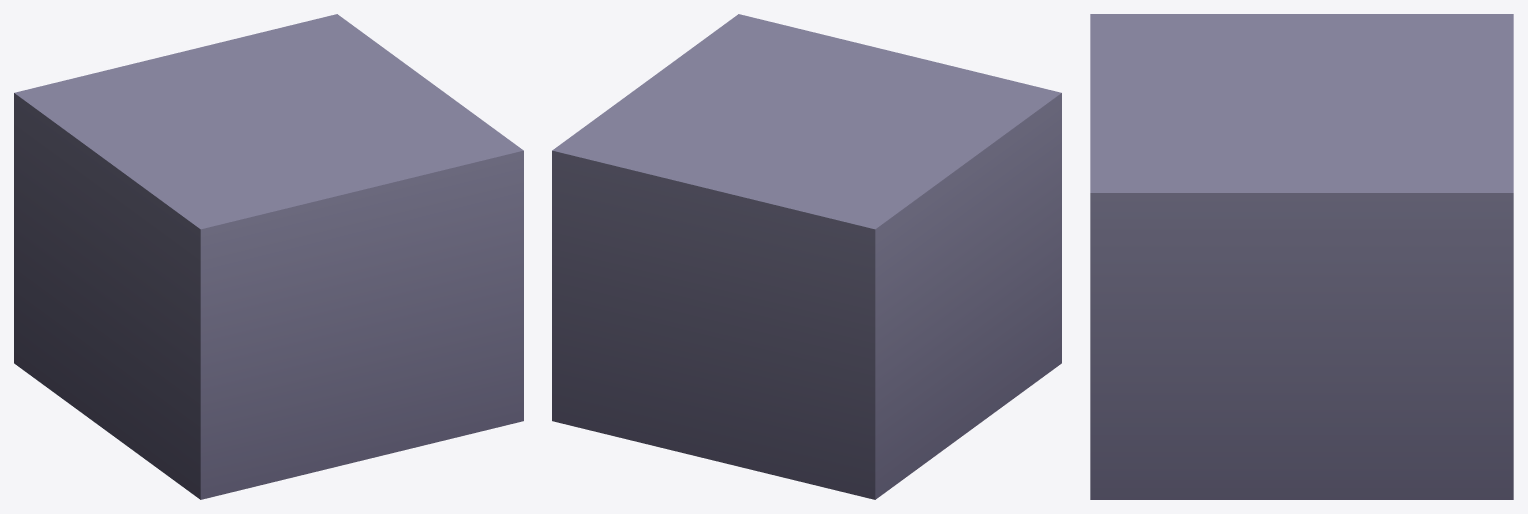
File: mini-skate--bowl-platform.glb
The picture shows the model from 3 angles, left to right: view 1: azimuth 30°, elevation 25°; view 2: azimuth 150°, elevation 25°; view 3: azimuth 270°, elevation 25°; orthographic projection. The views are drawn at different scales.
Parts seen in each view (by area): view 1: bowl-platform; view 2: bowl-platform; view 3: bowl-platform.
Part boxes in pixels (box(x1,y1,x2,y2)): bowl-platform: box(14, 14, 523, 499); bowl-platform: box(552, 14, 1061, 499); bowl-platform: box(1090, 14, 1513, 499).
Size of the model in its own units: 1 by 0.8 by 1.
Materials: 1 (1 with a texture image).
